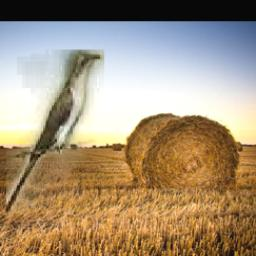Cuckoo: (5, 50, 103, 214)
